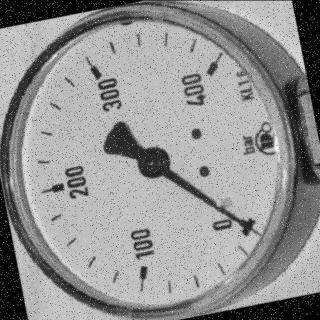gauge: (0, 0, 296, 320), (189, 47, 230, 91), (228, 206, 260, 244), (135, 146, 170, 180), (245, 224, 265, 240)
